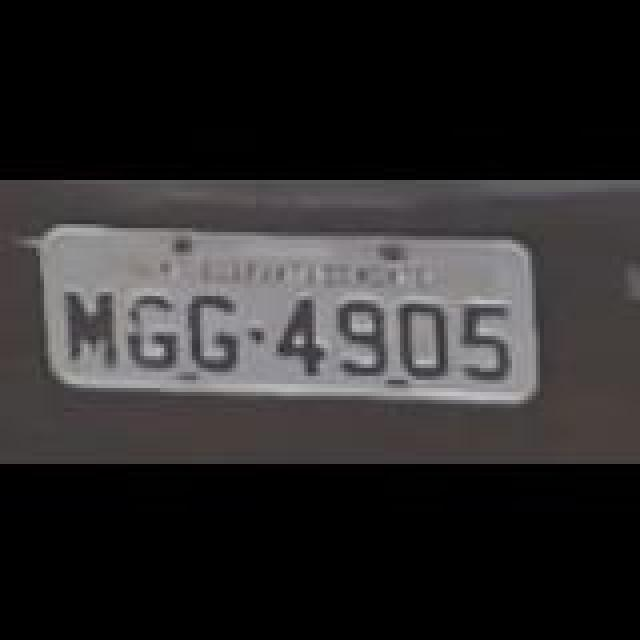4: (278, 294, 330, 370)
5: (458, 302, 518, 378)
9: (334, 298, 394, 374)
D: (394, 298, 454, 374)
G: (128, 290, 184, 366), (182, 294, 234, 370)
M: (64, 286, 120, 362)
